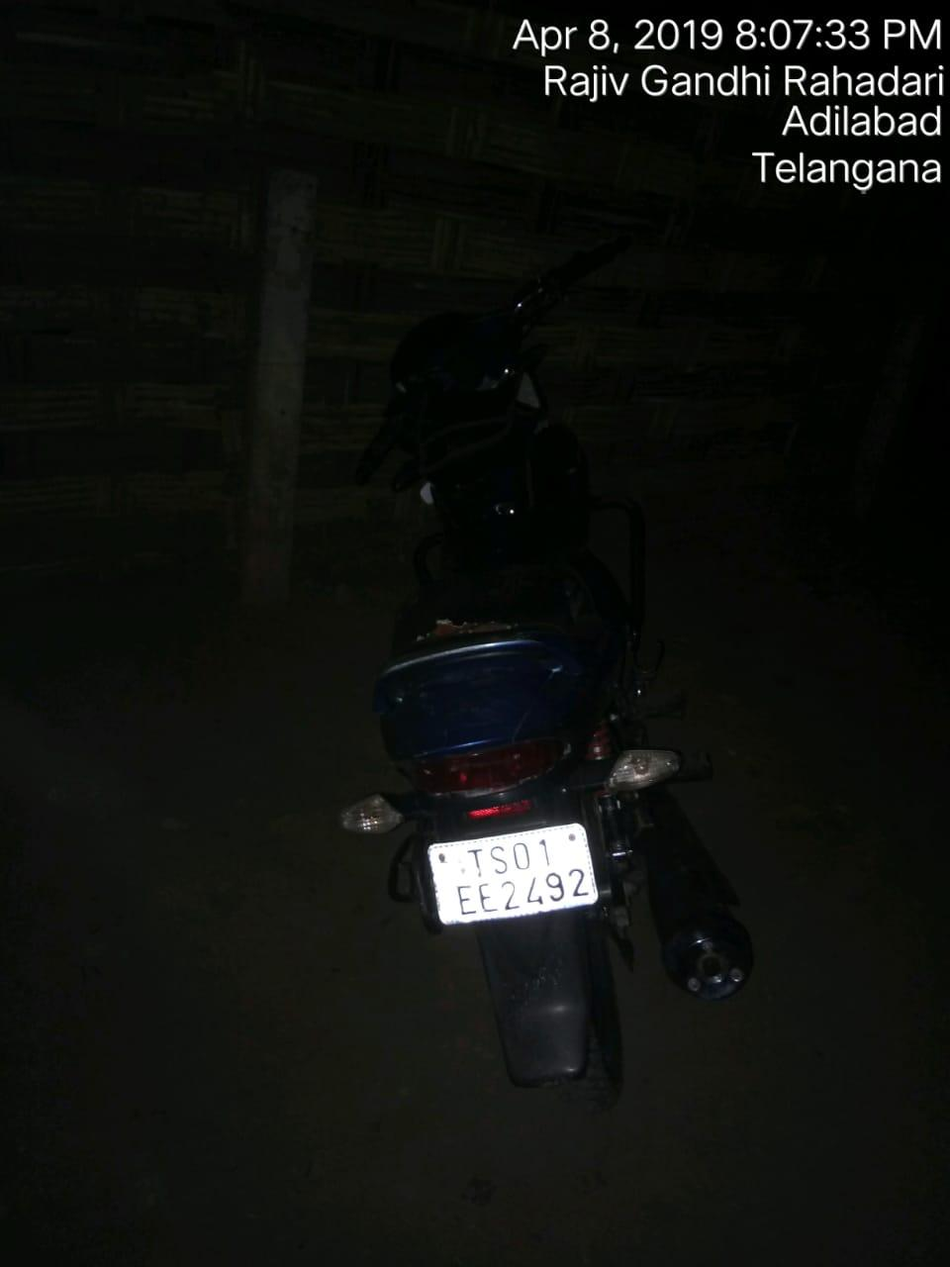plate: (402, 807, 615, 946)
